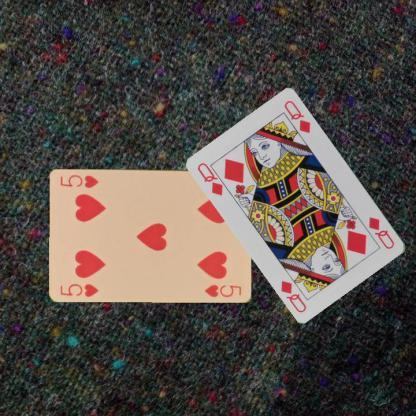5h: (58, 280, 100, 298)
Qd: (194, 160, 232, 198), (366, 214, 396, 250)
